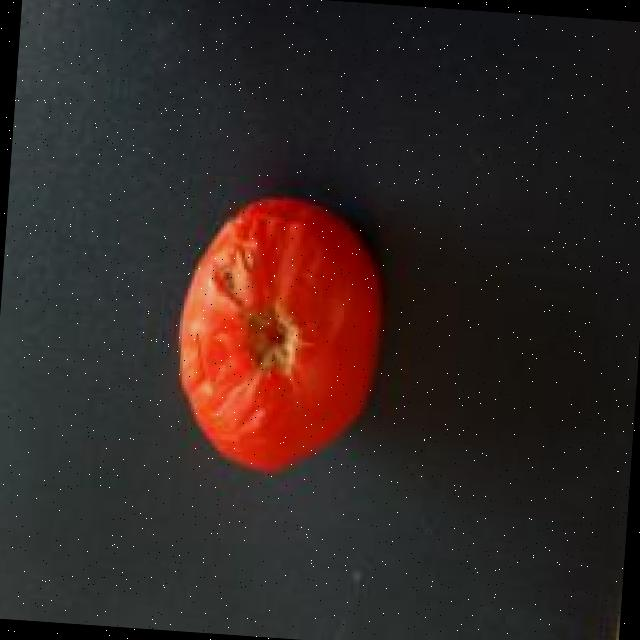overripe: (161, 188, 398, 486)
